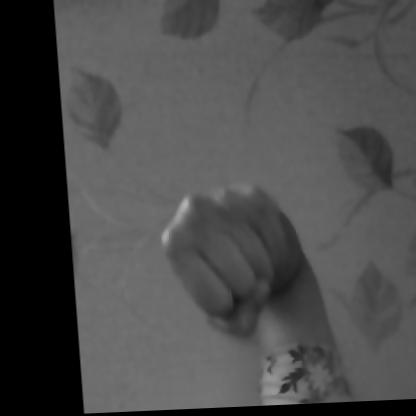fist: (132, 145, 312, 385)
